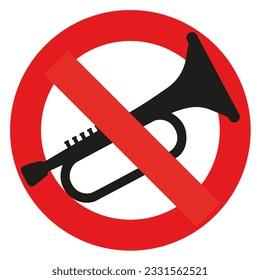Horn Prohibited: (2, 21, 245, 250)
